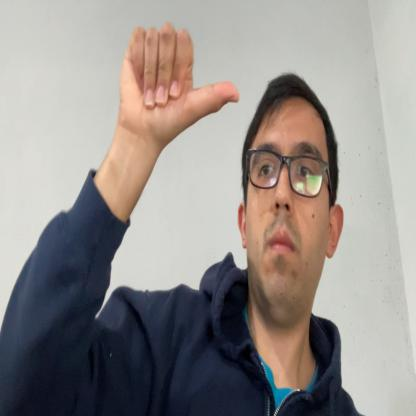A: (118, 24, 239, 147)
